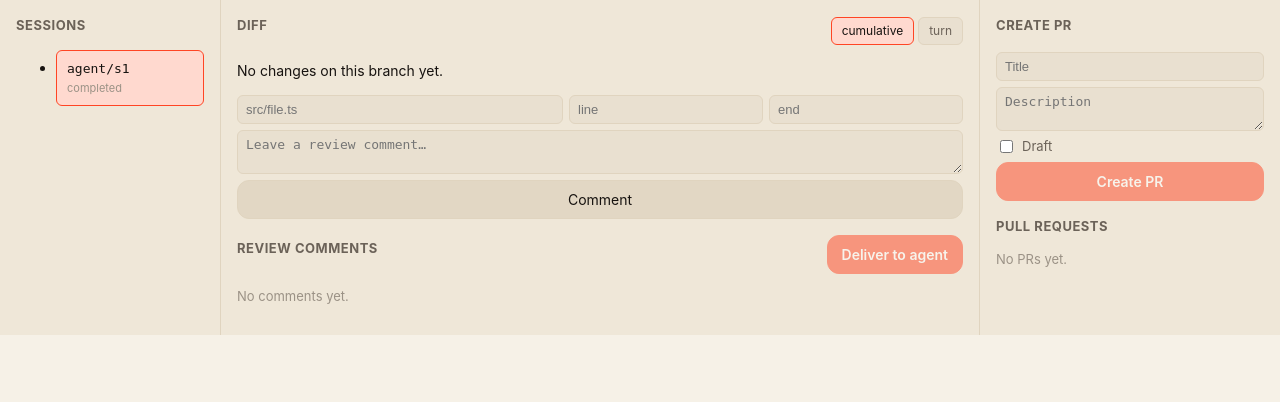
Scenario: ReviewPanel (#51 git/PR/review surface) › opens a pull request for the active session and lists it
This screenshot has width=1280, height=402.
Click the button "agent/s1 completed": (130, 78) [56,50,204,106]
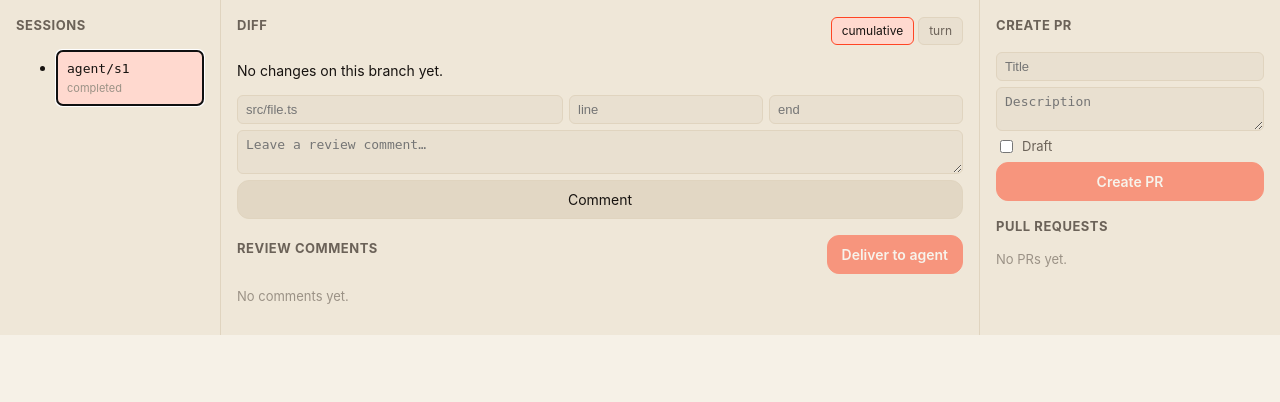
In the field named "PR title": (1130, 66) [996,52,1264,80], type "Ship it"
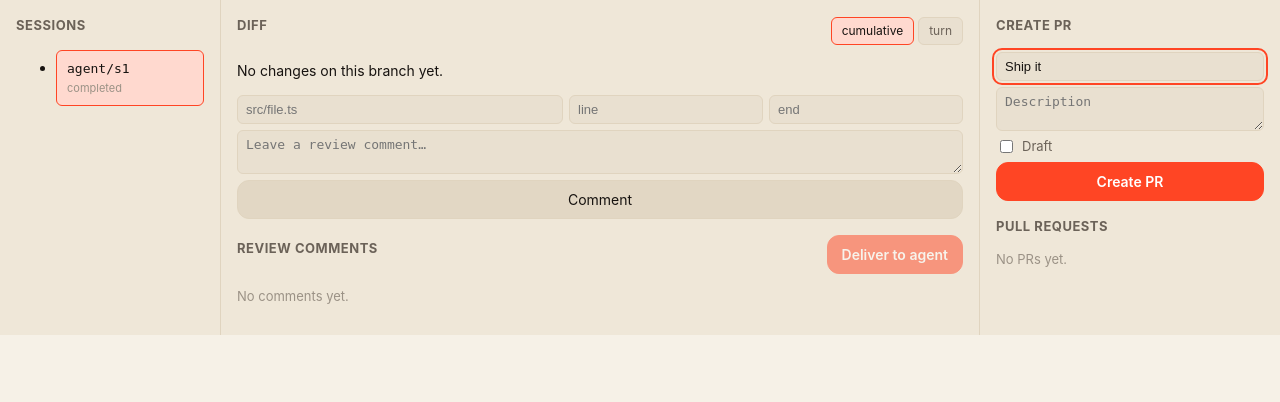
Click the button "Create PR": (1130, 182) [996,162,1264,201]
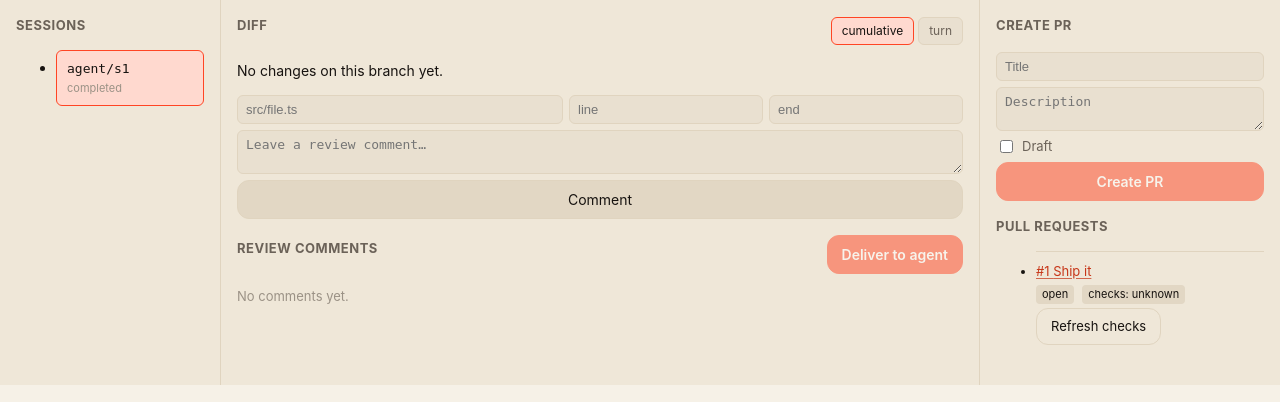
Now the link "#1 Ship it" is shown, box [1036,262,1091,278]
